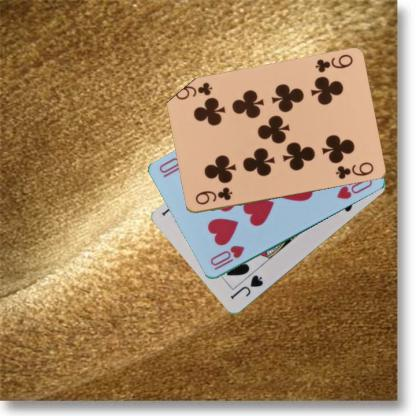10h: (208, 243, 245, 272)
9c: (312, 52, 354, 74), (192, 184, 233, 206)
Js: (227, 272, 265, 301)
